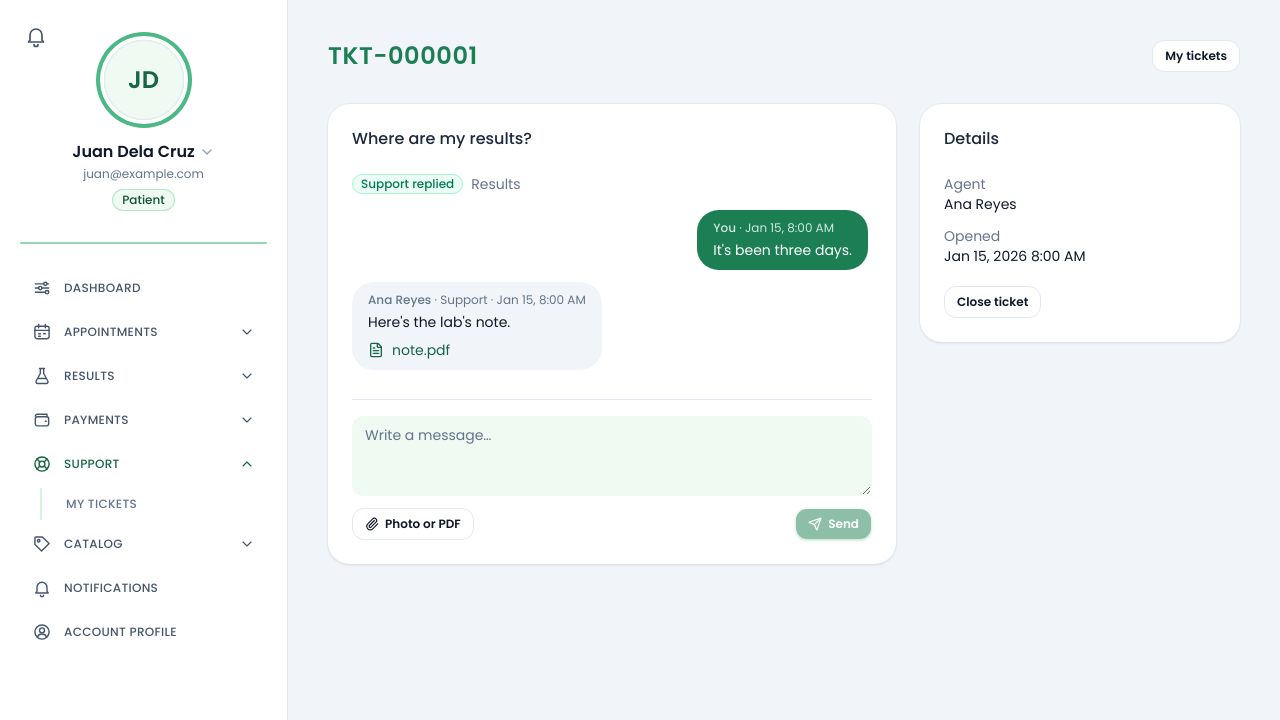
Test: Ticket page › shows the chat to the patient, sends a reply and closes after confirming
Expected: the text "It's been three days." is shown, [713,240,852,260]
Expected: the text "You" is shown, [713,219,736,236]
Type "Thanks!" into the text box named "Your message" at (612, 456), box [352,416,872,496]
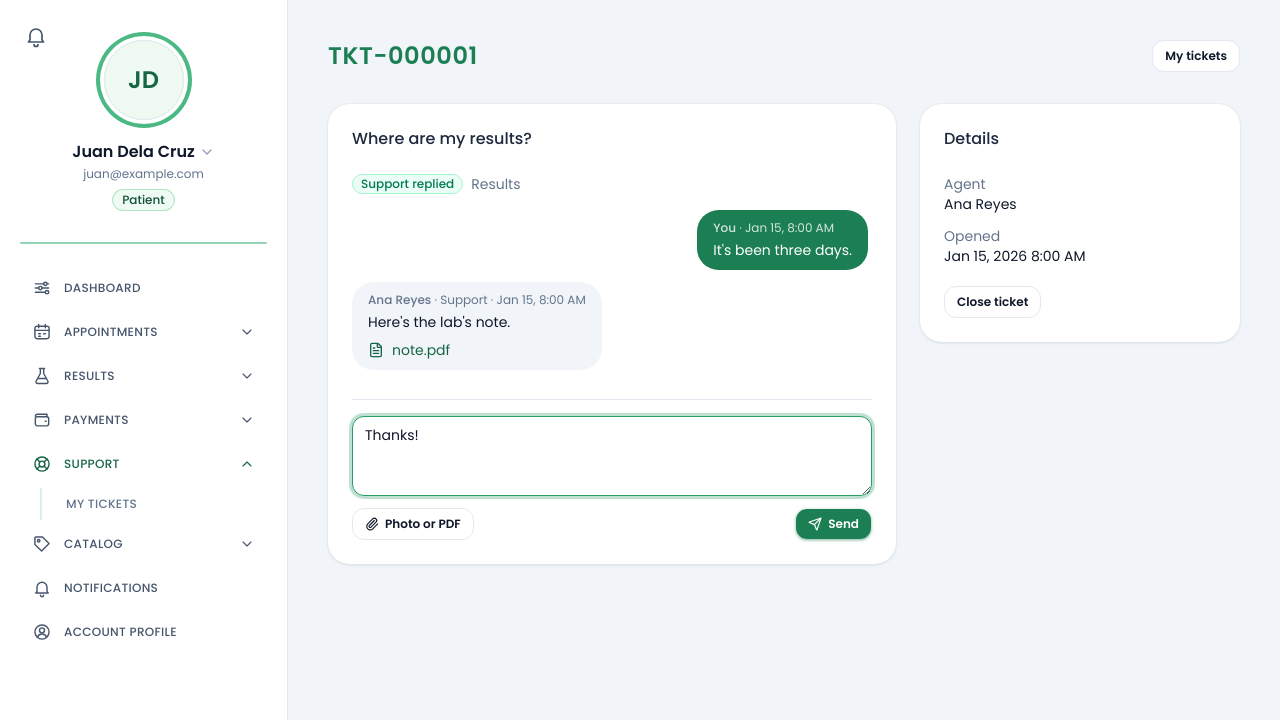
Click the button "Send" at (834, 524), box [795,508,872,540]
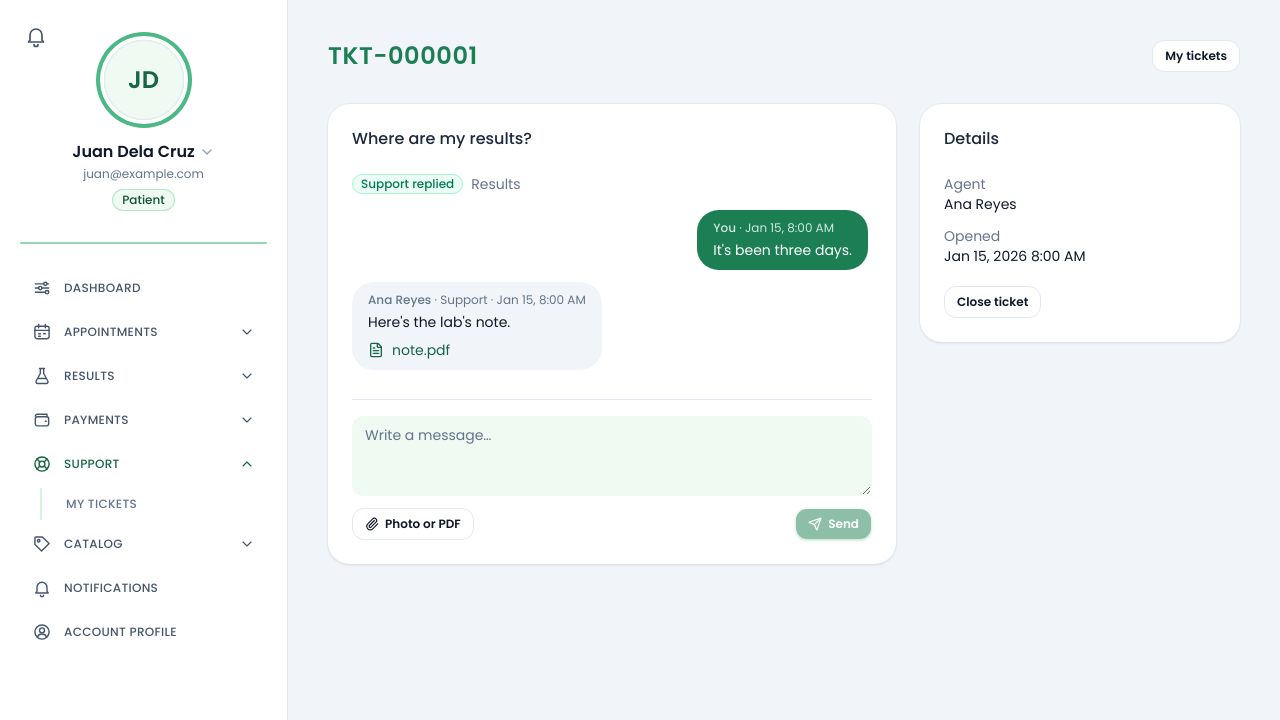
Click the button "Close ticket" at (993, 302), box [944,286,1041,318]
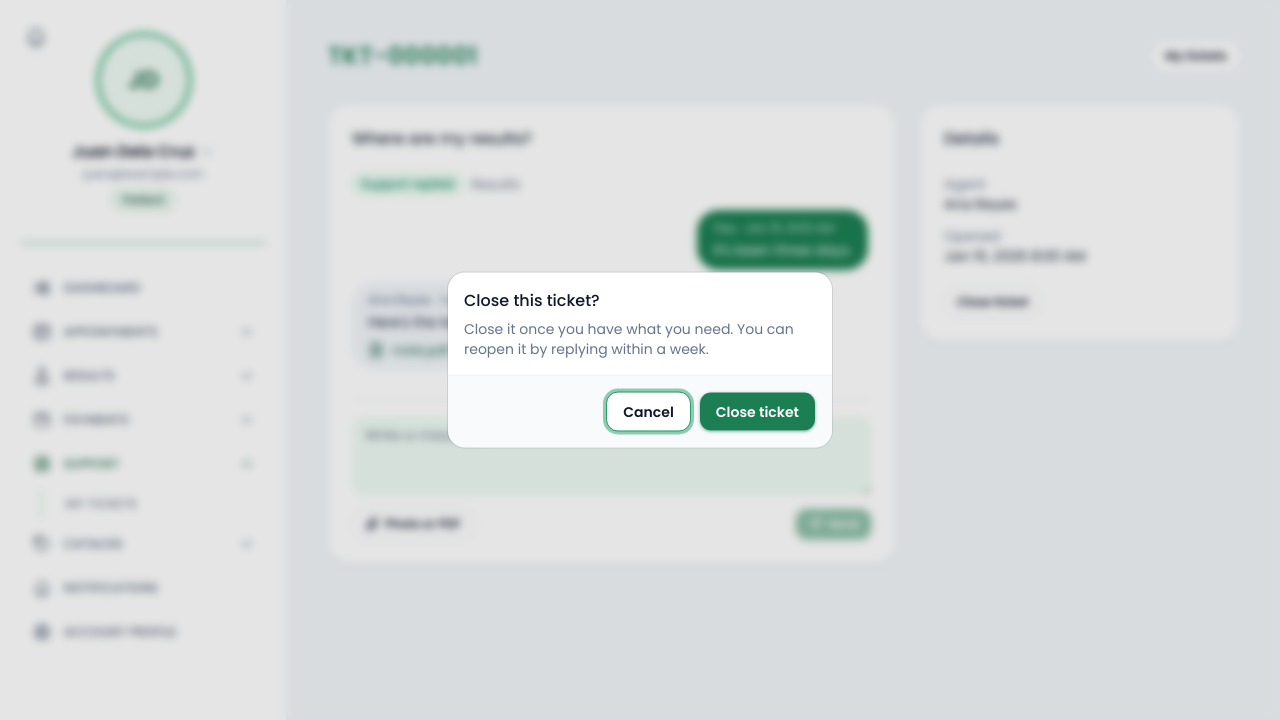
Click the button "Close ticket" at (757, 412), box [699,392,816,432]
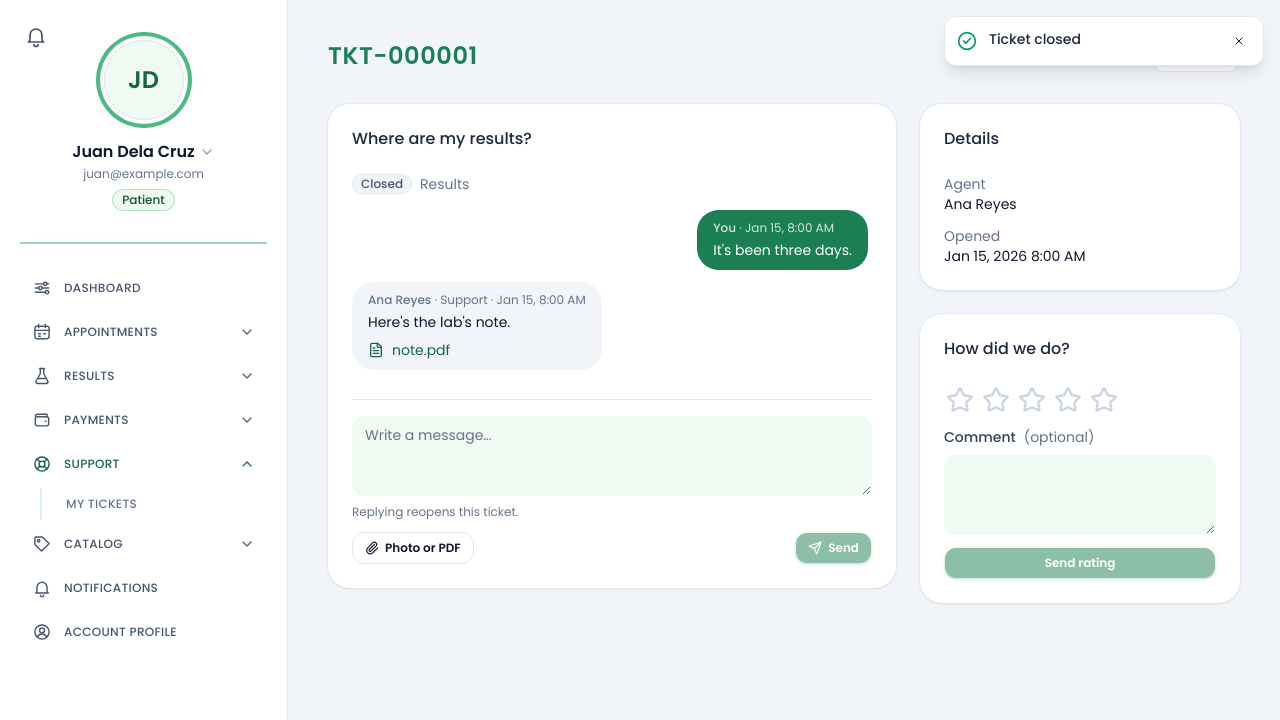
Now the text "Ticket closed" is shown, box [989,29,1081,49]
Now the element named "Rating" is shown, box [944,384,1120,416]
Now the text "Replying reopens this ticket." is shown, box [352,503,518,520]
